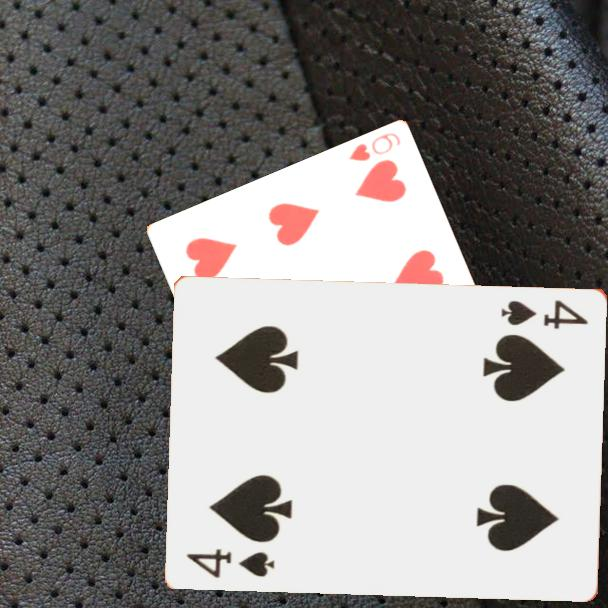h06: (345, 129, 403, 165)
s04: (183, 544, 278, 580), (498, 296, 591, 332)
